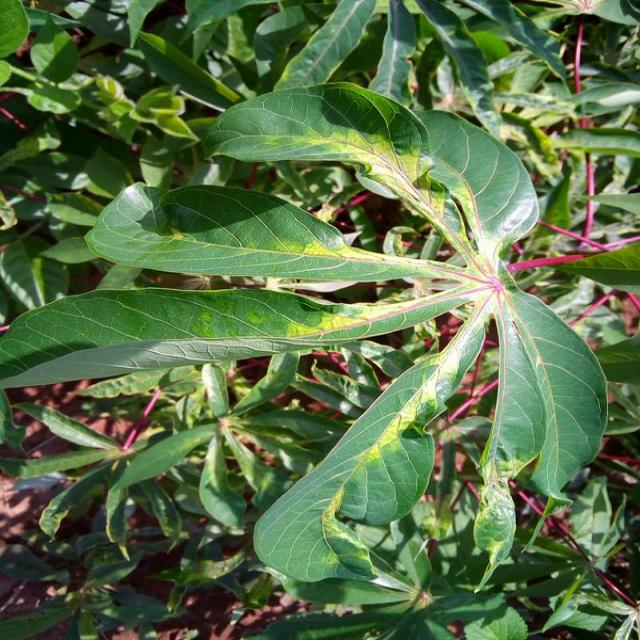cassava leaf: (1, 80, 609, 594), (485, 281, 609, 500), (202, 79, 432, 197)
